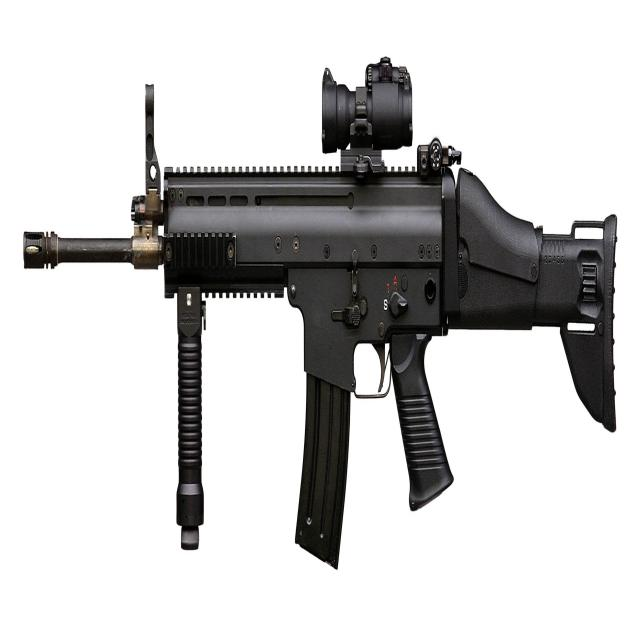Gun: (0, 71, 639, 561)
